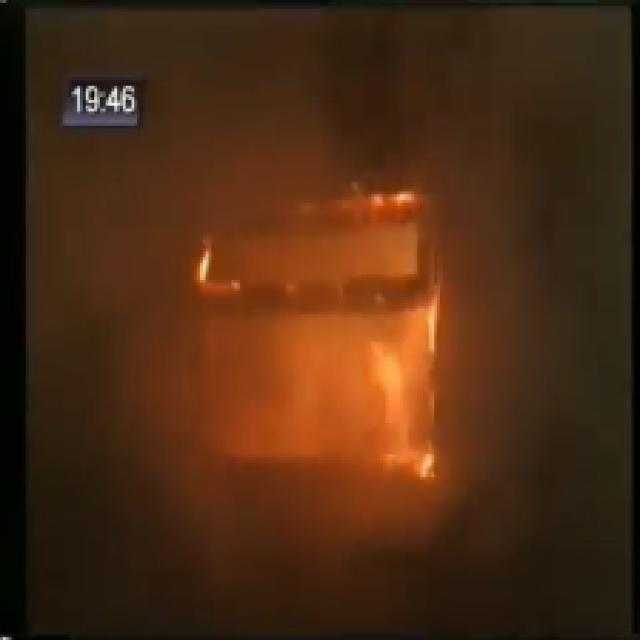Fire: (195, 223, 464, 494)
